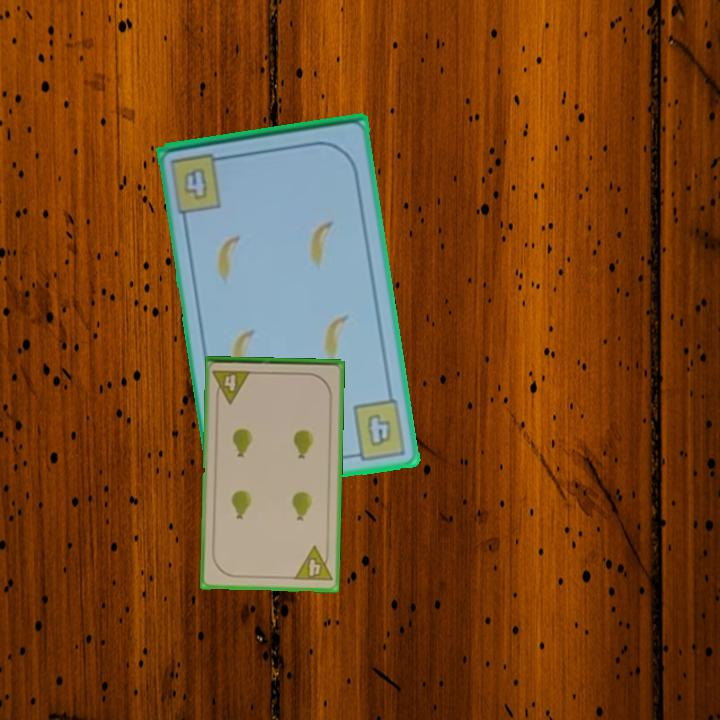4b: (345, 396, 410, 463), (180, 164, 212, 204)
4p: (290, 543, 335, 584), (209, 366, 254, 406)
